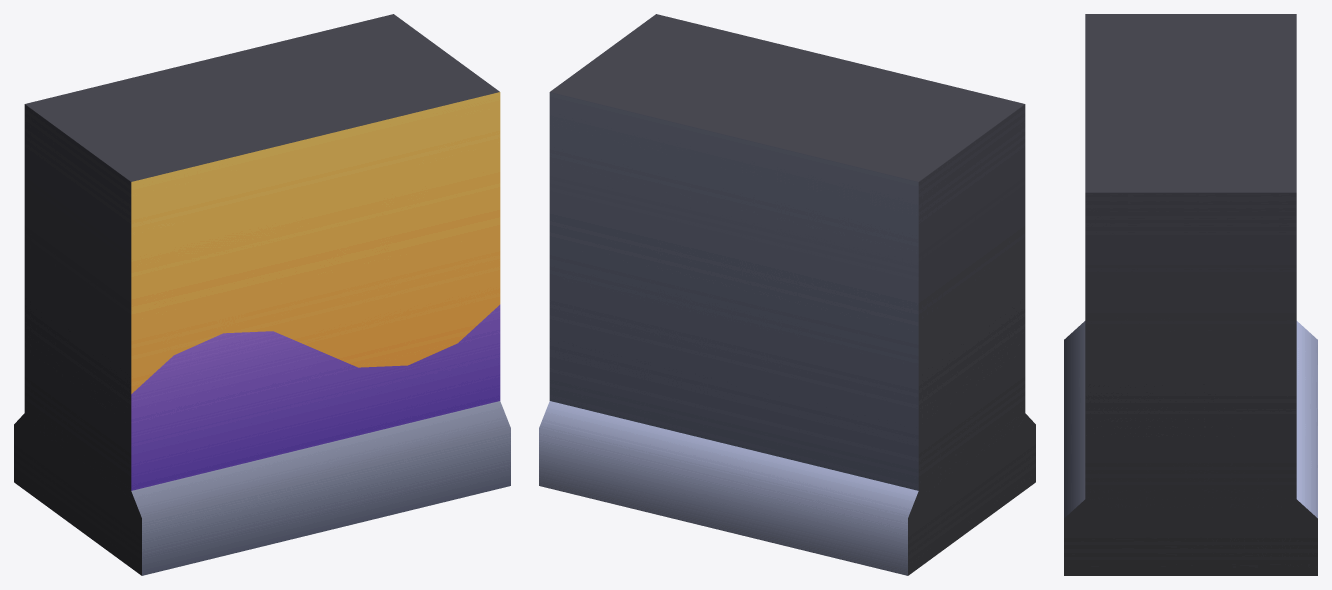
The model's file is wall.glb.
3 views of the same model, side by side, from view 1: azimuth 30°, elevation 25°; view 2: azimuth 150°, elevation 25°; view 3: azimuth 270°, elevation 25° (orthographic).
Parts seen in each view (by area): view 1: wall; view 2: wall; view 3: wall.
Boxes of the visible parts, x1,y1,x2,y2 form: wall: (14,14,510,575); wall: (539,14,1035,575); wall: (1064,14,1317,575).
Size of the model in its own units: 3 by 3 by 1.8.
Materials: 1 (1 with a texture image).
